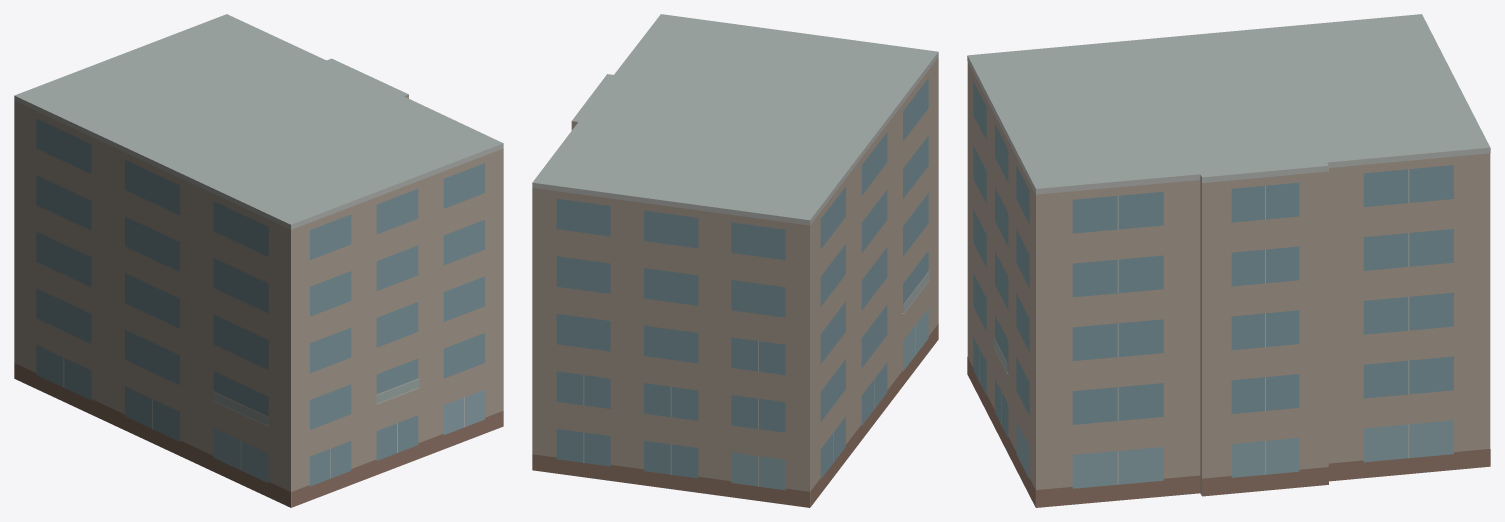
Rendered from survey-upis-32813372.glb.
The picture shows the model from 3 angles, left to right: view 1: azimuth 30°, elevation 25°; view 2: azimuth 150°, elevation 25°; view 3: azimuth 270°, elevation 25°; orthographic projection. The views are drawn at different scales.
Parts seen in each view (by area): view 1: survey-upis-32813372.tmp; view 2: survey-upis-32813372.tmp; view 3: survey-upis-32813372.tmp.
Boxes of the visible parts, x1,y1,x2,y2 form: survey-upis-32813372.tmp: (14, 14, 503, 507); survey-upis-32813372.tmp: (532, 14, 938, 507); survey-upis-32813372.tmp: (967, 14, 1490, 507).
Size of the model in its own units: 16 by 13.6 by 20.22.
